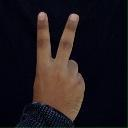hand: (31, 10, 85, 121)
